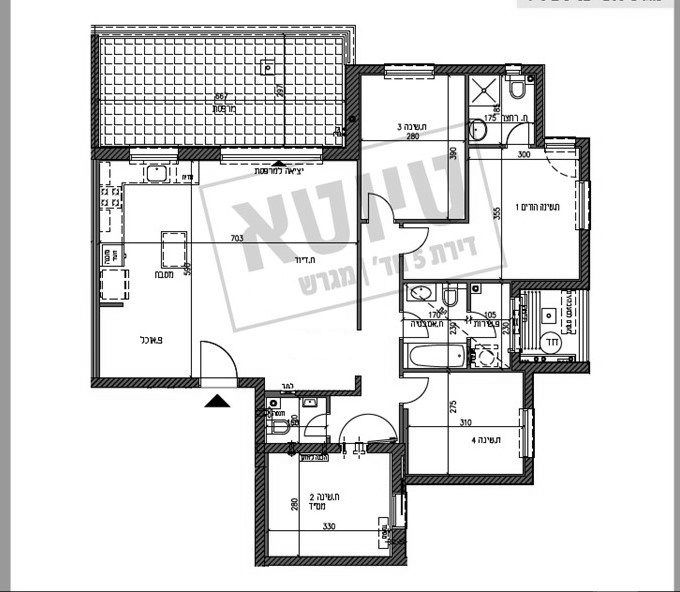door: (194, 336, 239, 383), (299, 409, 331, 440), (397, 374, 429, 405), (399, 225, 431, 256), (363, 190, 395, 221), (503, 118, 535, 149), (470, 309, 502, 340)
wall: (254, 377, 268, 567), (91, 376, 200, 388), (91, 35, 101, 160), (393, 476, 534, 483)
window: (213, 148, 326, 167), (512, 403, 541, 463), (570, 179, 596, 239), (122, 147, 185, 167), (377, 64, 440, 84), (494, 65, 529, 80)
